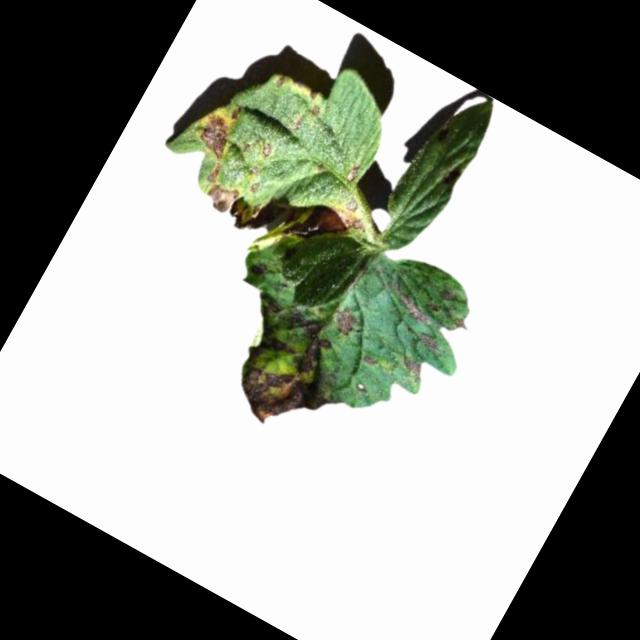Early_blight: (211, 300, 366, 455), (198, 164, 295, 247), (309, 189, 376, 257), (379, 279, 444, 331), (189, 112, 240, 165), (326, 306, 358, 341), (397, 355, 428, 384), (415, 331, 441, 356), (342, 161, 364, 185), (203, 162, 224, 187), (436, 286, 457, 306), (357, 352, 378, 370), (271, 73, 289, 93), (305, 104, 322, 121), (303, 86, 319, 102)
